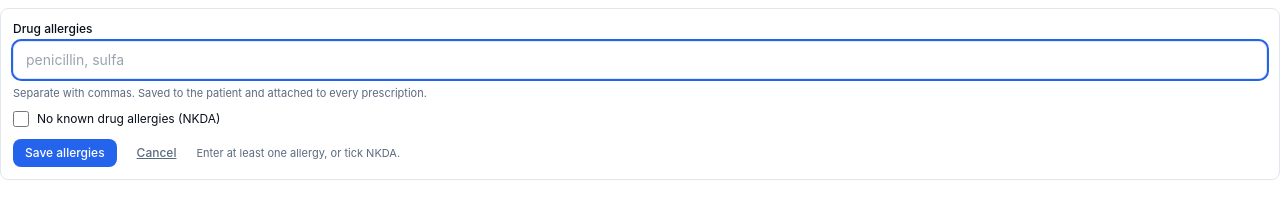
Test: AllergyEditor › a failed save keeps the editor open and shows the server error
In the field labelled "Drug allergies": (640, 60) [13,41,1267,79], type "sulfa"
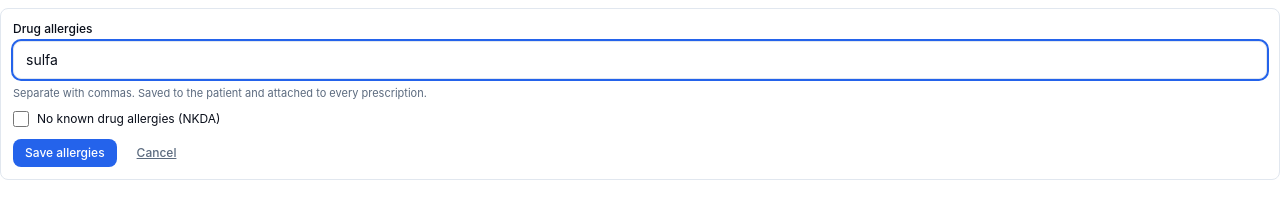
Click the button "Save allergies": (65, 153) [13,139,117,167]
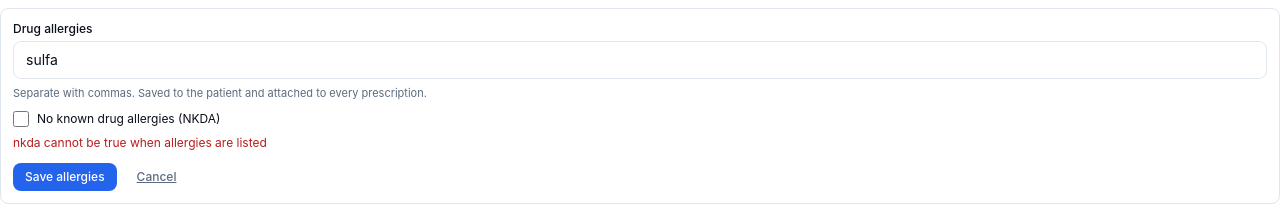
Result: the message shows "nkda cannot be true" at [13,135,267,150]
